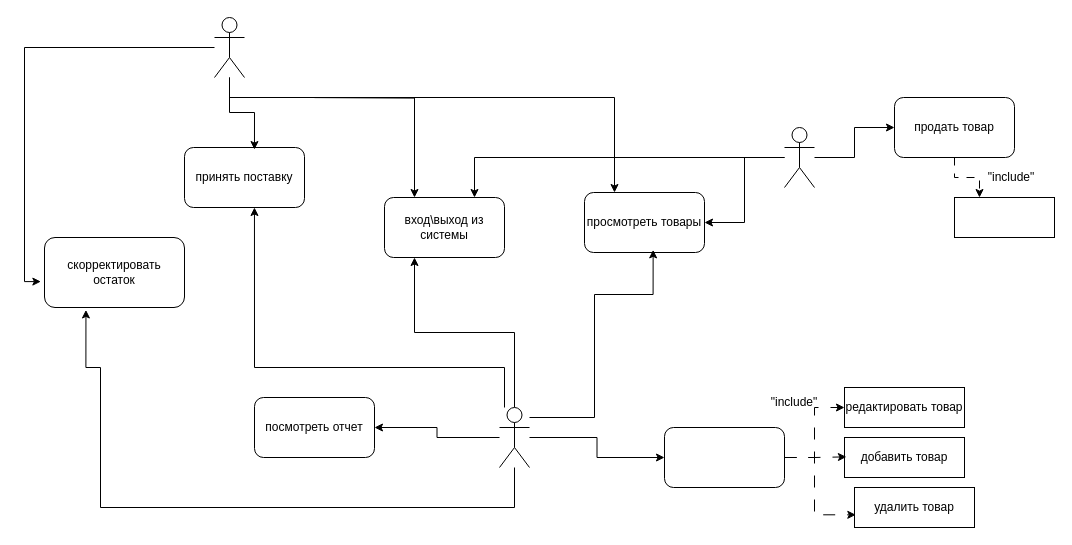
Some shapes in this 1072 by 545 pixel diagram are drawn without their labels. The box of each missing label's shape, as (x1, y1, x2, y2) in pixels:
директор: (498, 406, 530, 468)
кассир: (784, 126, 814, 188)
кладовщик: (214, 16, 244, 78)
проверить остаток: (954, 196, 1054, 238)
управлять товарами: (664, 426, 784, 488)
